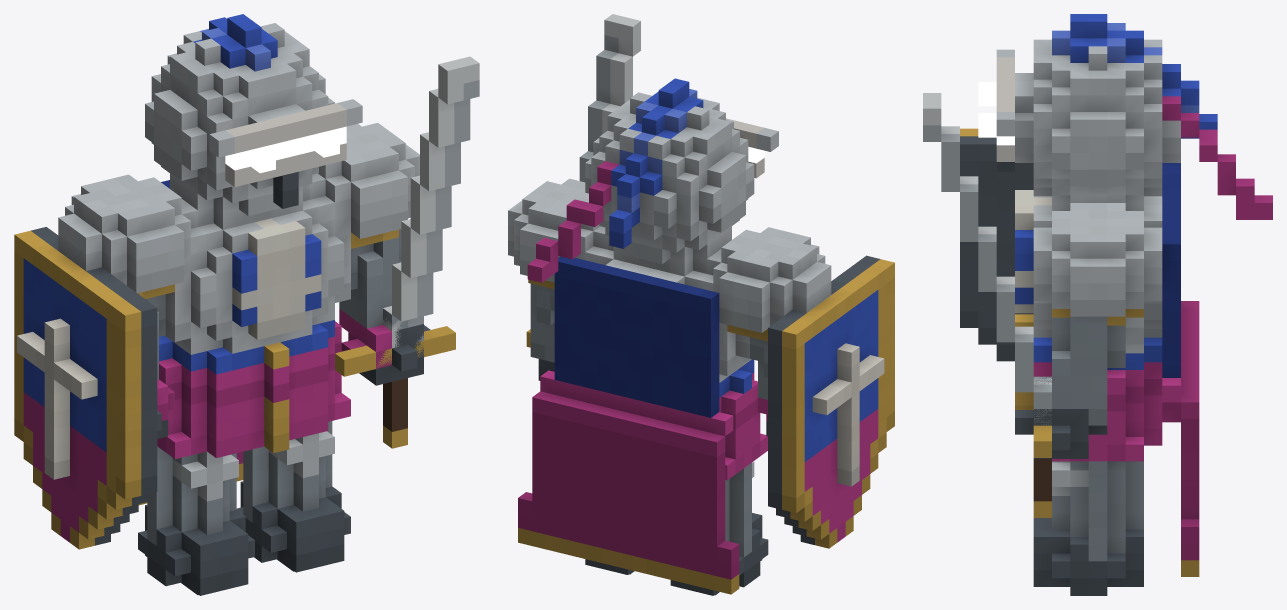
The model's file is u_garde__tidiane.glb.
3 views of the same model, side by side, from view 1: azimuth 30°, elevation 25°; view 2: azimuth 150°, elevation 25°; view 3: azimuth 270°, elevation 25° (orthographic). The views are drawn at different scales.
Parts seen in each view (by area): view 1: garde_body, garde_weapon, garde_glow; view 2: garde_body, garde_weapon; view 3: garde_body, garde_weapon, garde_glow.
Boxes of the visible parts, x1,y1,x2,y2 form: garde_body: (14, 14, 430, 595); garde_weapon: (335, 56, 479, 448); garde_glow: (225, 126, 346, 173); garde_body: (508, 78, 894, 595); garde_weapon: (526, 14, 640, 347); garde_body: (960, 14, 1272, 595); garde_weapon: (923, 93, 1051, 517); garde_glow: (978, 82, 1014, 145).
Size of the model in its own units: 1.2 by 1.65 by 0.95.
